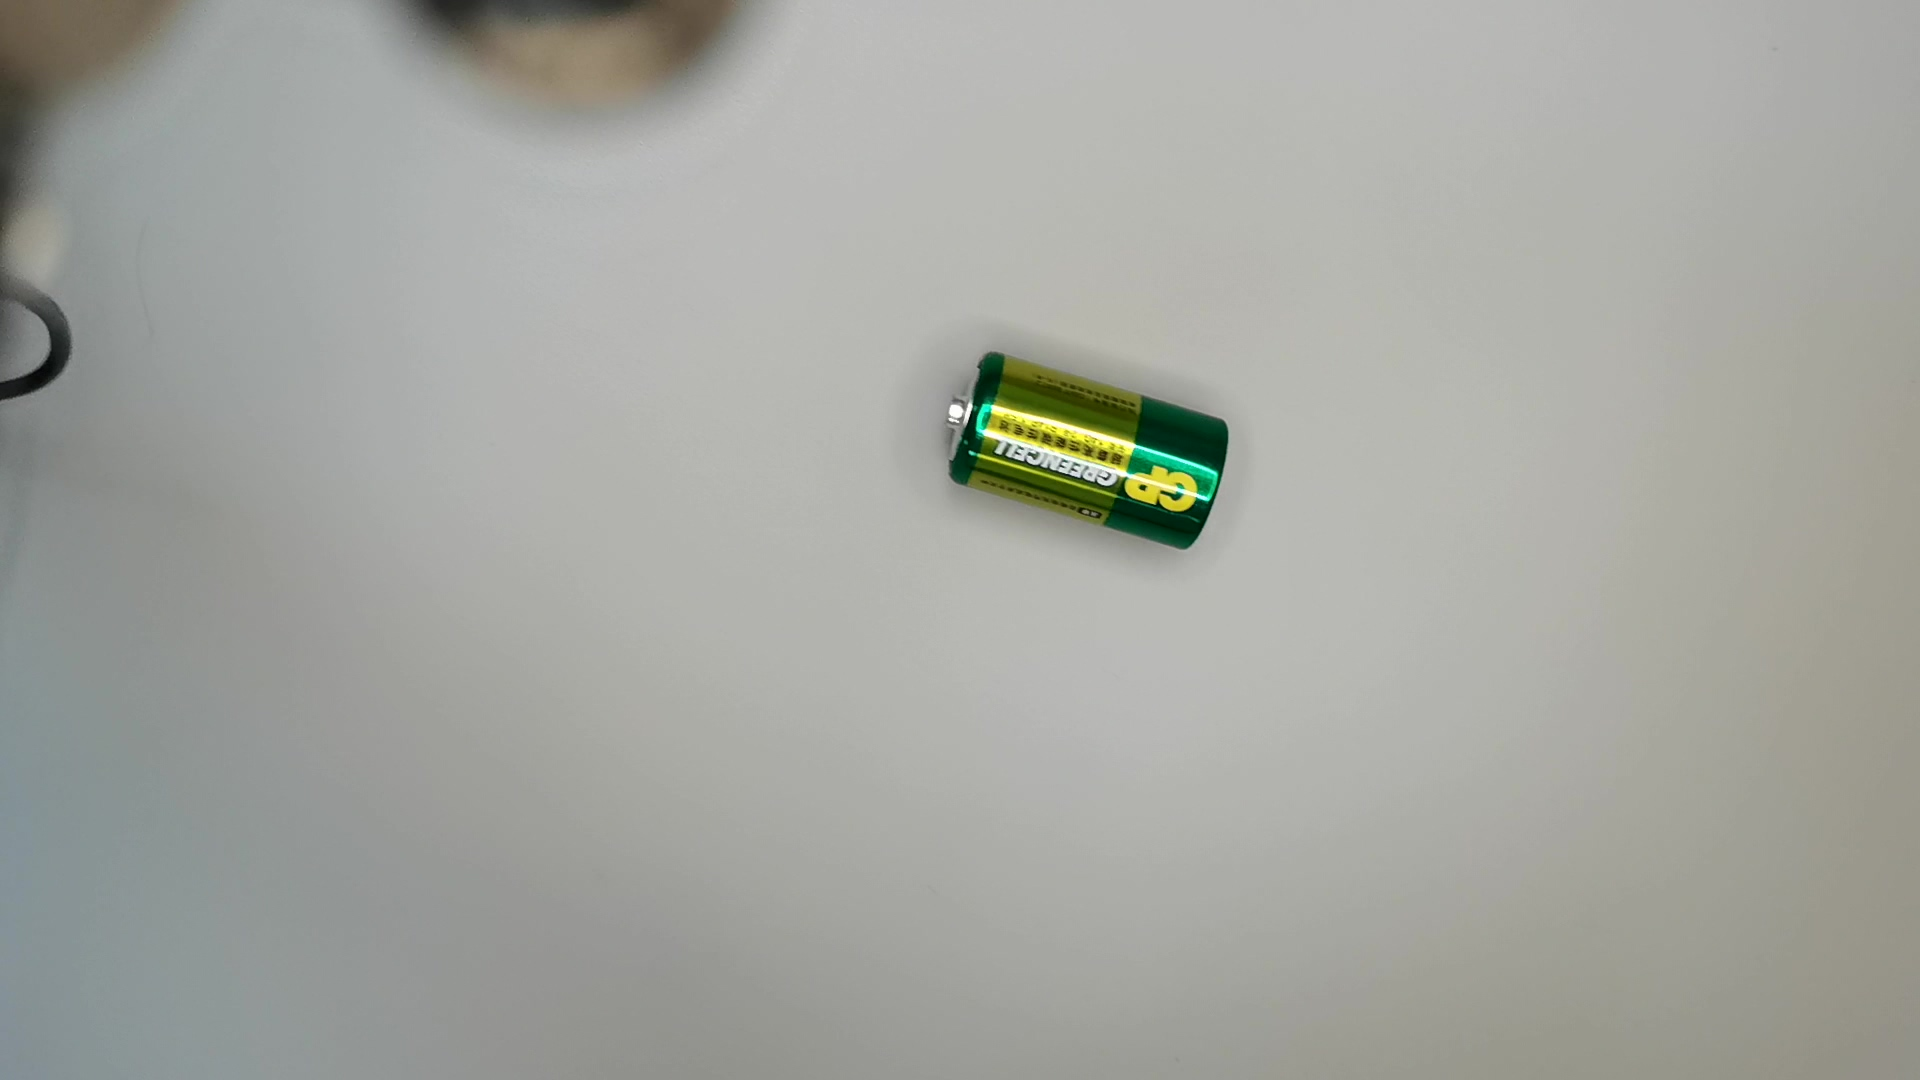battery: (934, 348, 1236, 556)
